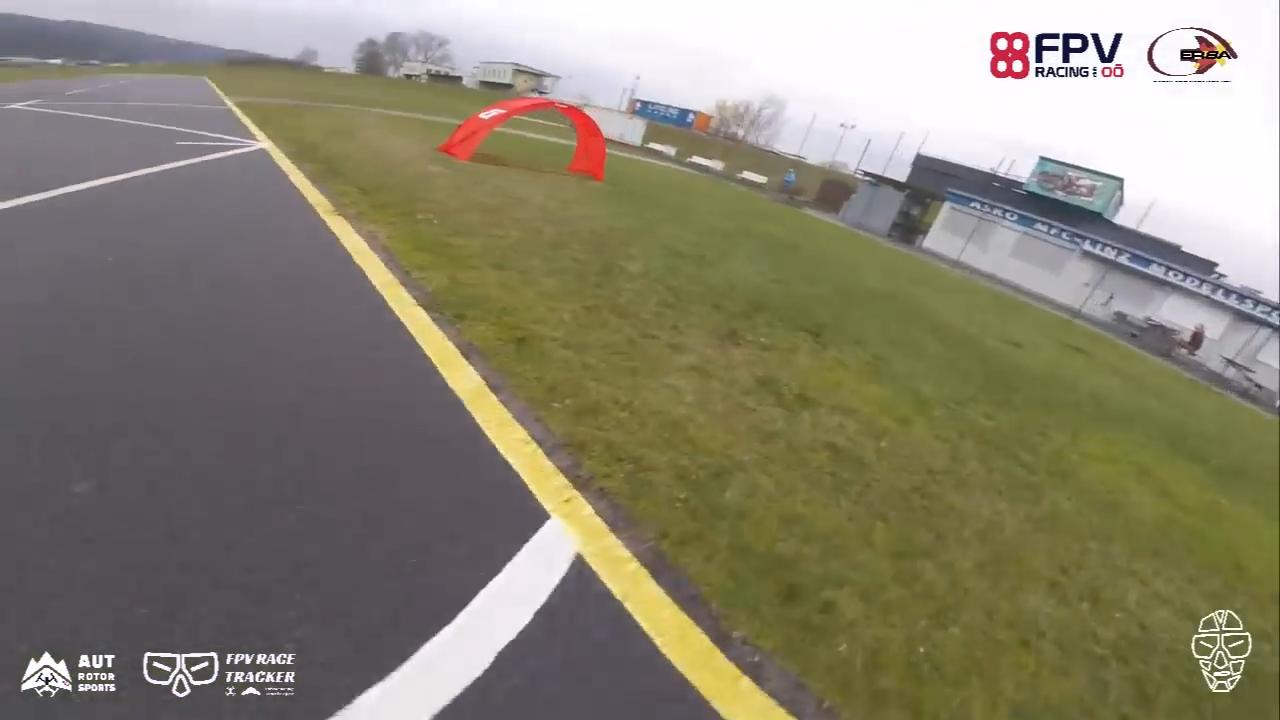gate: (438, 92, 610, 182)
